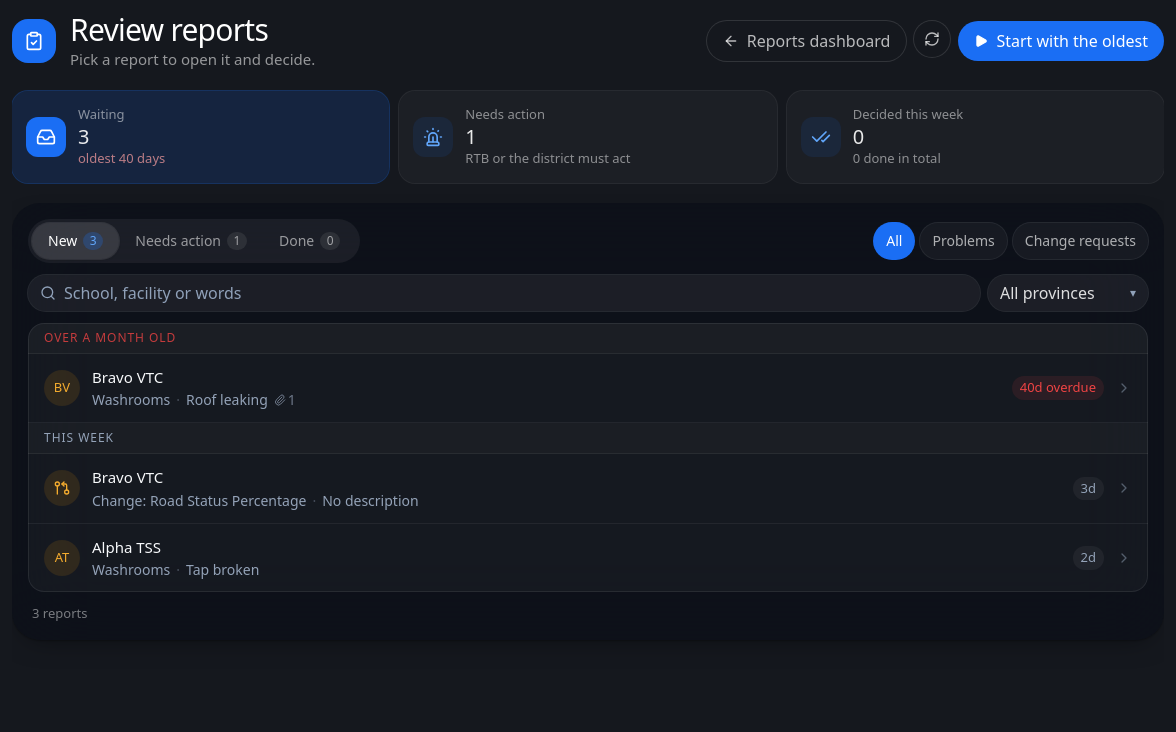
Test: <ReportValidation /> (two steps) › the Needs action list shows who sent it and why
expect the list named "Reports to review" is shown: met, box [28,322,1148,592]
What coordinates should you click on to do the following:
click the tab "Needs action 1"
I would click on:
 (191, 240)
Its box is [119,222,263,258].
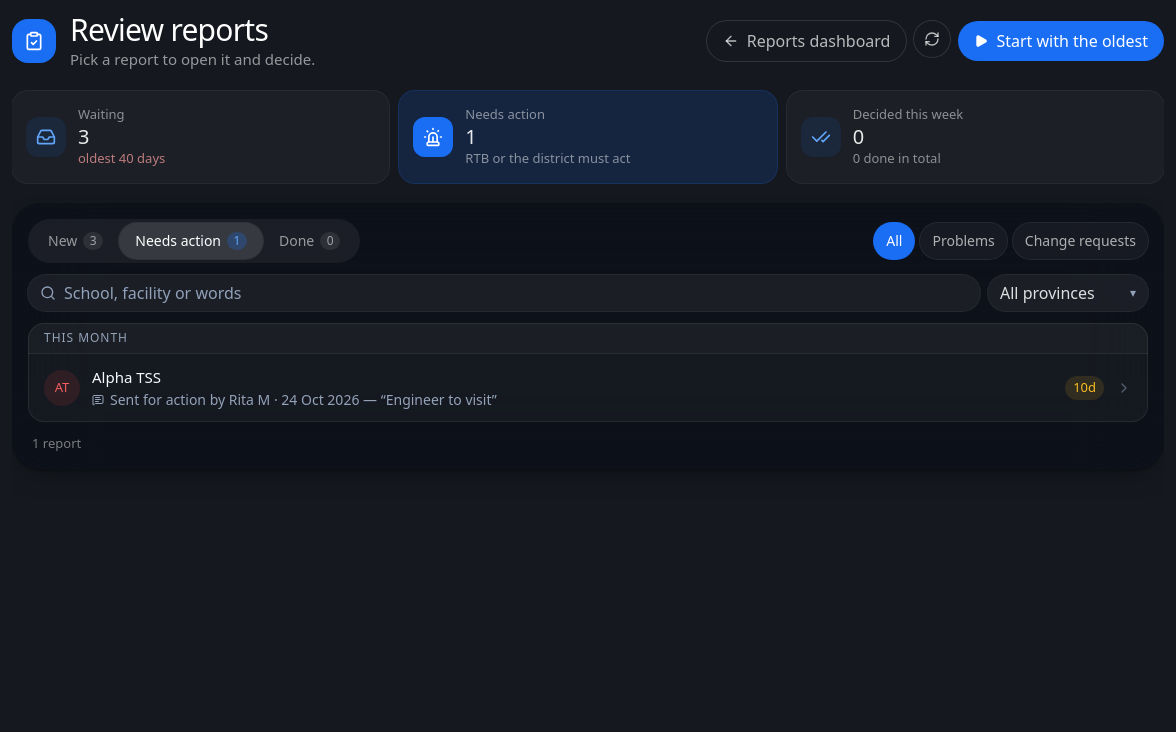
expect the text "Sent for action by Rita M" is shown: met, box [110,390,497,410]
